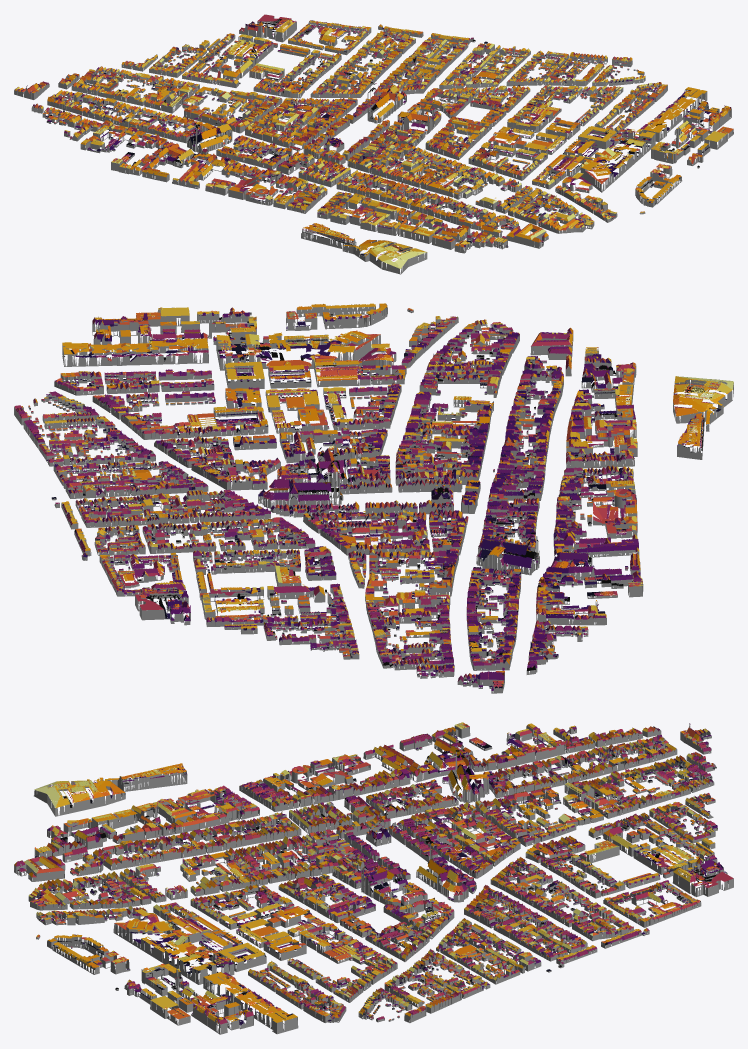
Rendered from binnenstad_84000_447000.glb.
The picture shows the model from 3 angles, top to bottom: view 1: azimuth 30°, elevation 25°; view 2: azimuth 150°, elevation 25°; view 3: azimuth 270°, elevation 25°; orthographic projection. The views are drawn at different scales.
Size of the model in its own units: 1054 by 72.67 by 1056.
